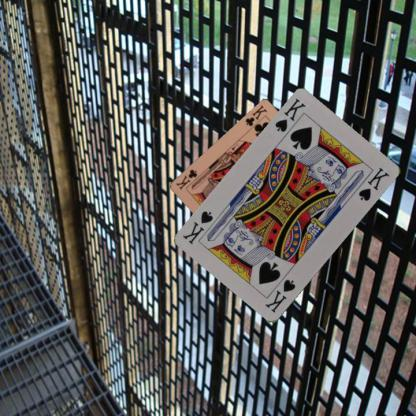Kc: (243, 103, 268, 128)
Ks: (272, 95, 308, 134), (262, 277, 297, 315)
